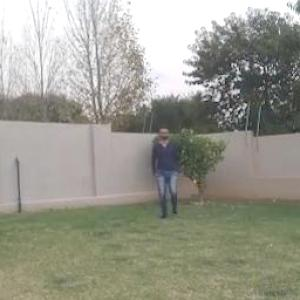follow: (156, 128, 179, 222)
